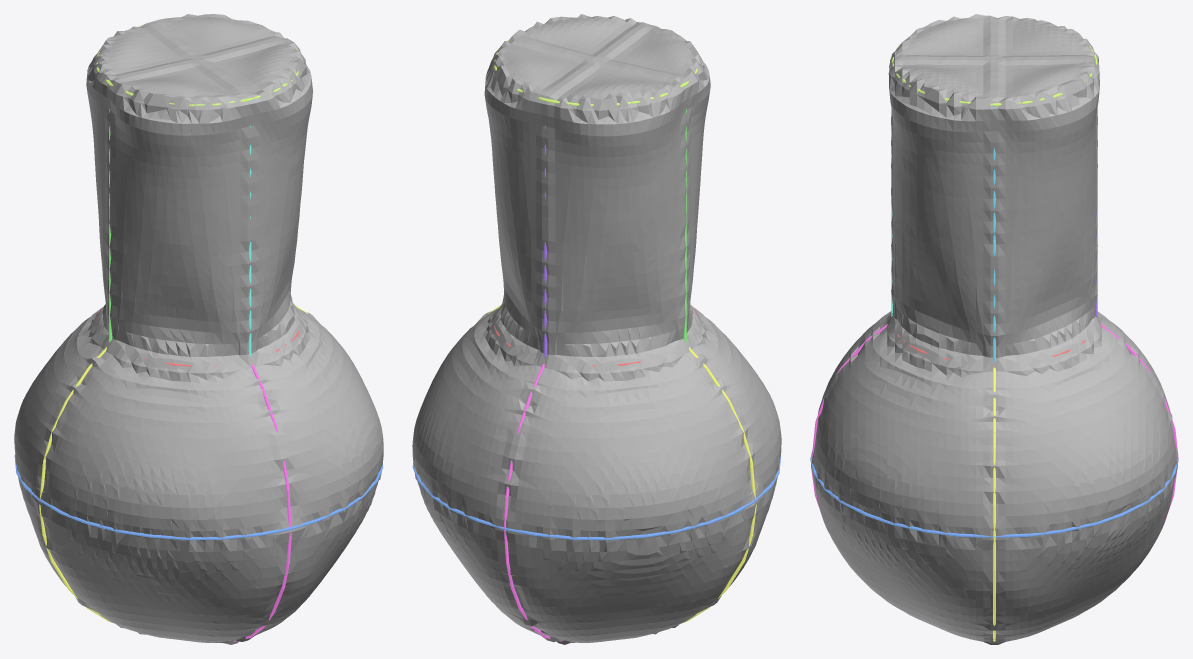
File: flowrep_spherecylinder.gltf
3 renders of one model, left to right at view 1: azimuth 30°, elevation 25°; view 2: azimuth 150°, elevation 25°; view 3: azimuth 270°, elevation 25°, orthographic.
Size of the model in its own units: 0.4561 by 0.7852 by 0.4564.
